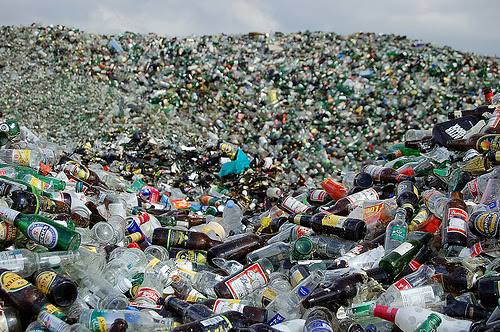garbage: (2, 51, 499, 331)
